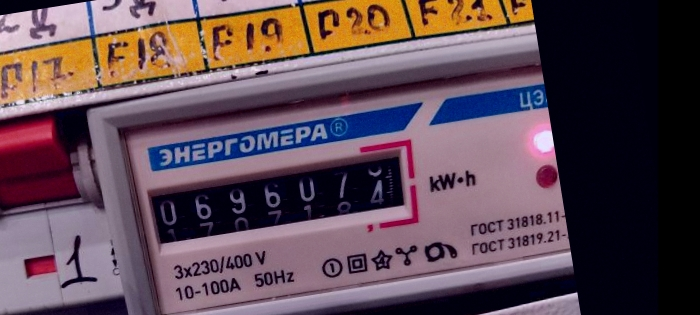0: (155, 195, 180, 228), (295, 172, 318, 204)
4: (363, 176, 387, 208)
6: (259, 178, 284, 211), (190, 190, 214, 221)
7: (329, 166, 352, 199)
9: (225, 184, 249, 216)
screen: (133, 131, 427, 266)
